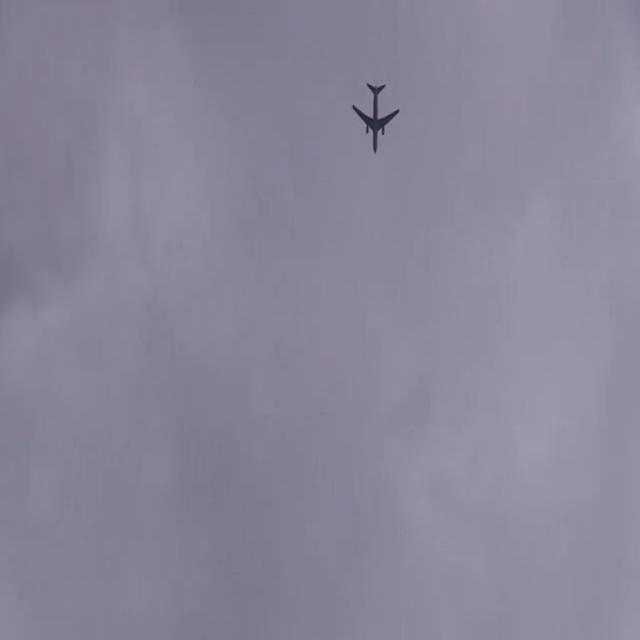AirPlane: (341, 73, 411, 164)
